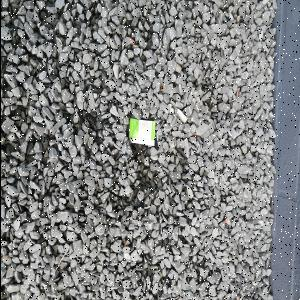Trash: (127, 117, 157, 151)
